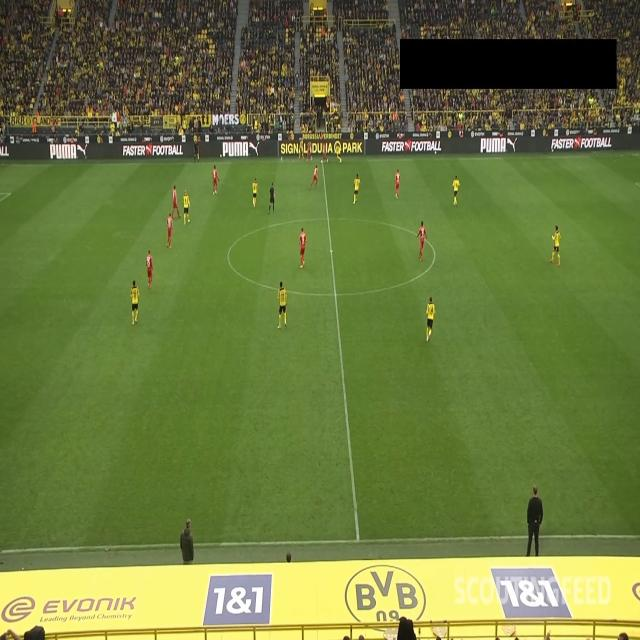ball: (320, 158, 323, 164)
